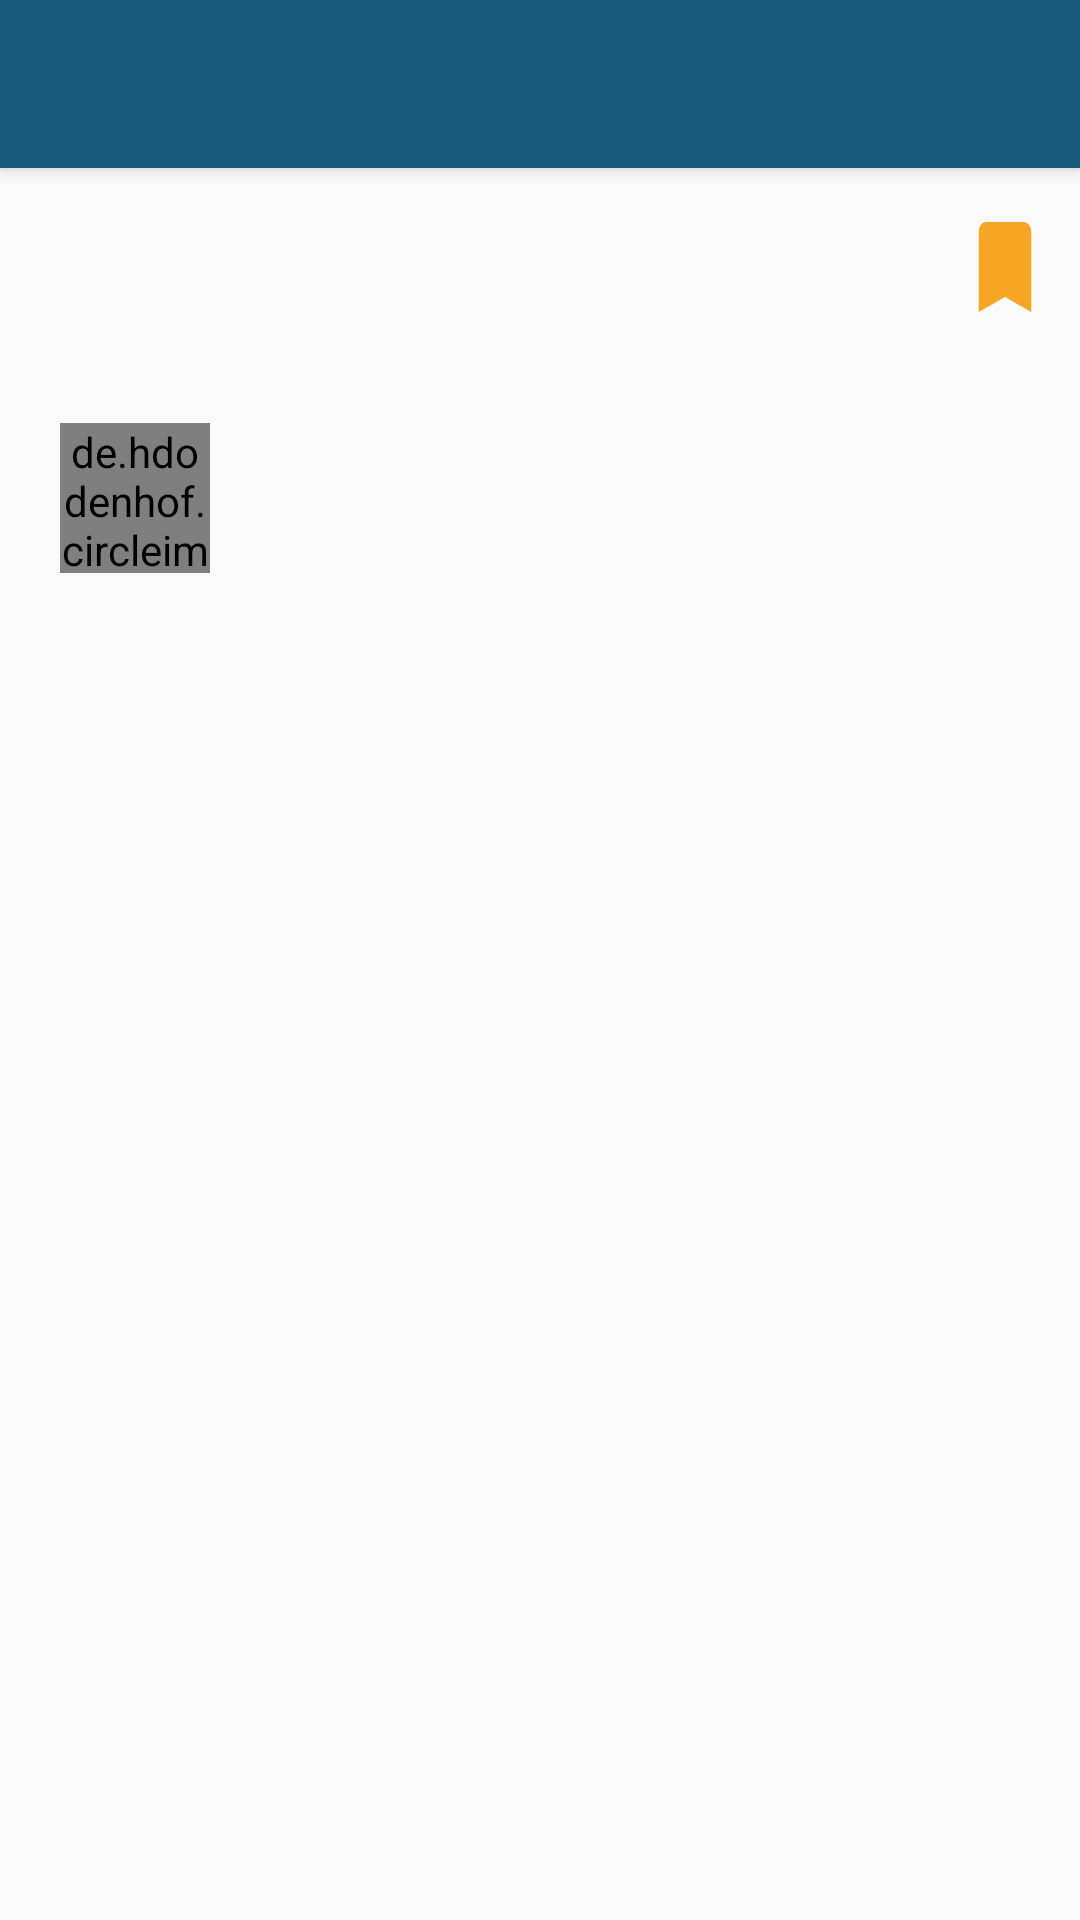

Where to tap for icons on this 1080x1920 app screen, as point (x, y):
bookmark: point (1005, 267)
